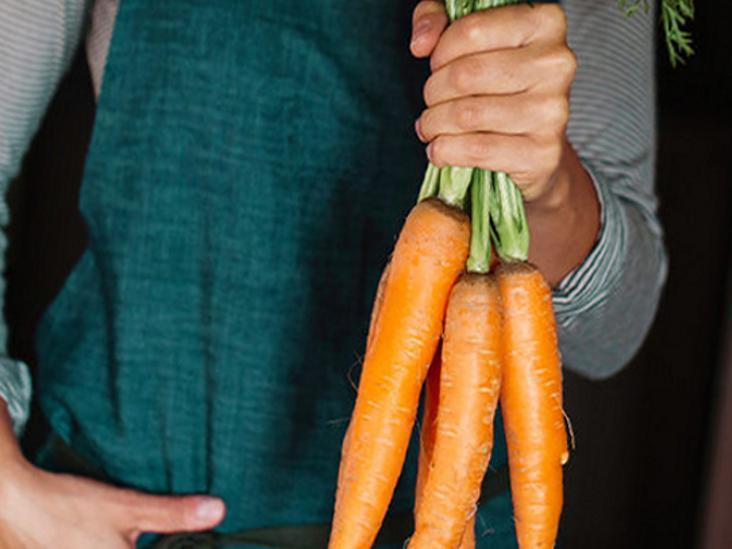carrot: (385, 191, 565, 549)
